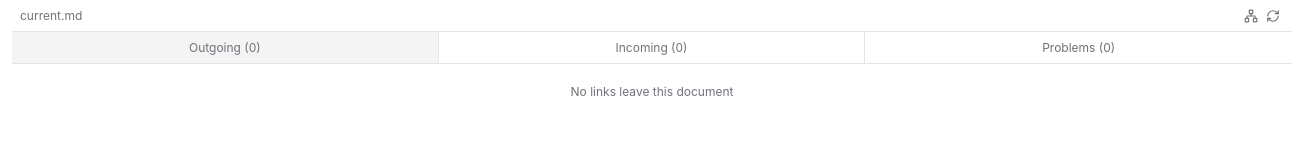
LinkInspectorPanel › 問題の空表示と件数不明の省略表示を示す
Click the tab "Problems (0)": (1079, 48) [865,32,1292,63]
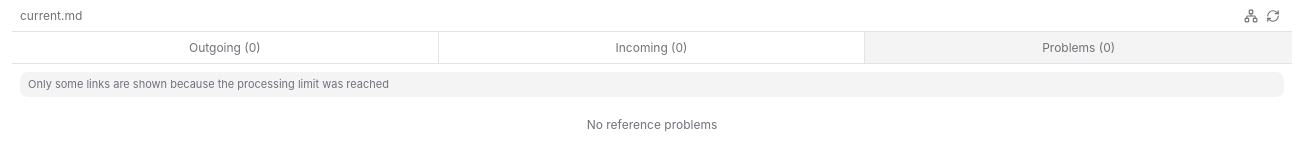
Result: the text "No reference problems" is shown at [587,116,717,132]
Result: the text "Only some links are shown because the processing limit was reached" is shown at [20,72,1284,96]
